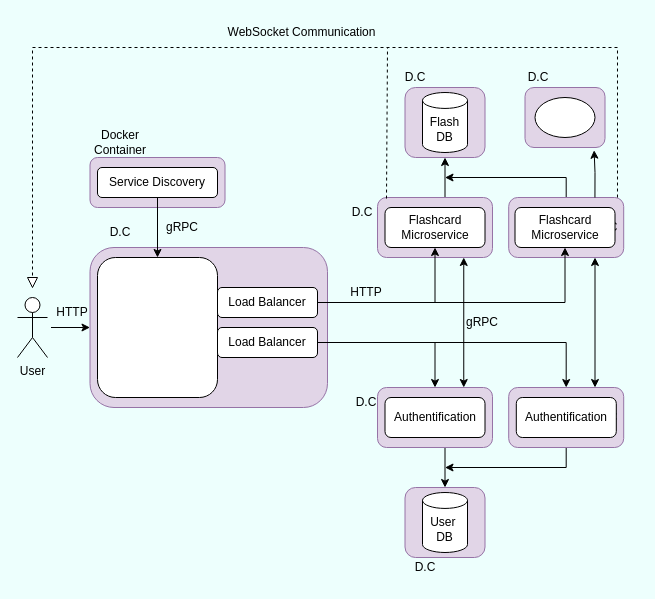
The diagram is 655 pixels wide and 599 high, and some of its shapes have lost their labels. Here are the shapes that lost their labels. From the top down, the box of each, then its label:
(534, 96, 595, 138): Cache
(96, 256, 218, 398): API Gateway
